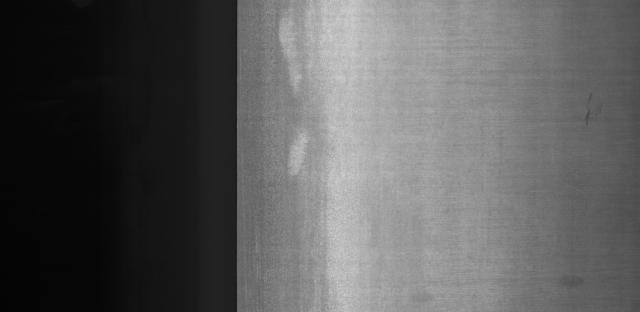water_spot: (568, 85, 606, 135)
